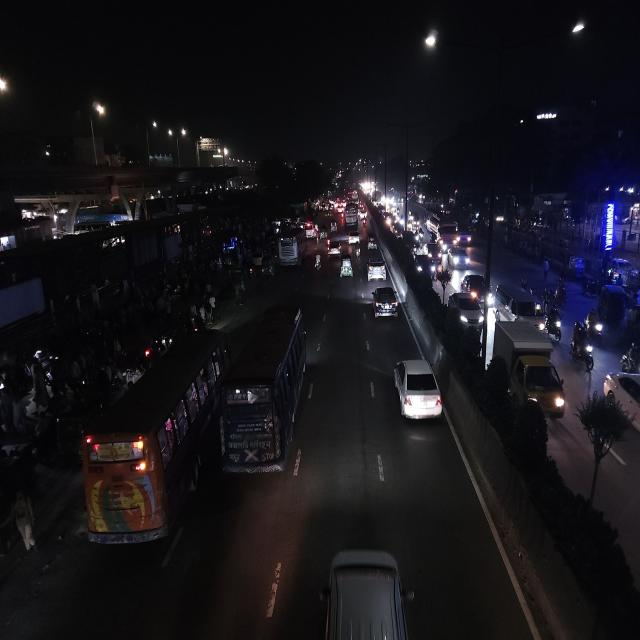bus: (79, 332, 222, 557), (220, 303, 310, 486), (278, 222, 304, 270), (343, 202, 359, 228)
car: (314, 540, 417, 640), (391, 353, 444, 432), (494, 280, 543, 325), (447, 290, 485, 332), (370, 282, 400, 324), (460, 271, 492, 307), (366, 249, 388, 284), (446, 243, 472, 270), (412, 252, 434, 281), (425, 242, 443, 264), (327, 235, 342, 257), (457, 230, 473, 247), (367, 232, 378, 251), (348, 227, 360, 244)
cng: (596, 281, 633, 340), (338, 252, 354, 284), (261, 252, 275, 279)
motorcycle: (570, 317, 594, 374), (544, 303, 562, 344), (586, 306, 604, 344), (436, 264, 452, 292), (313, 250, 323, 276)
pedestrian: (540, 255, 552, 282)
truck: (494, 320, 566, 420), (428, 215, 460, 244)
